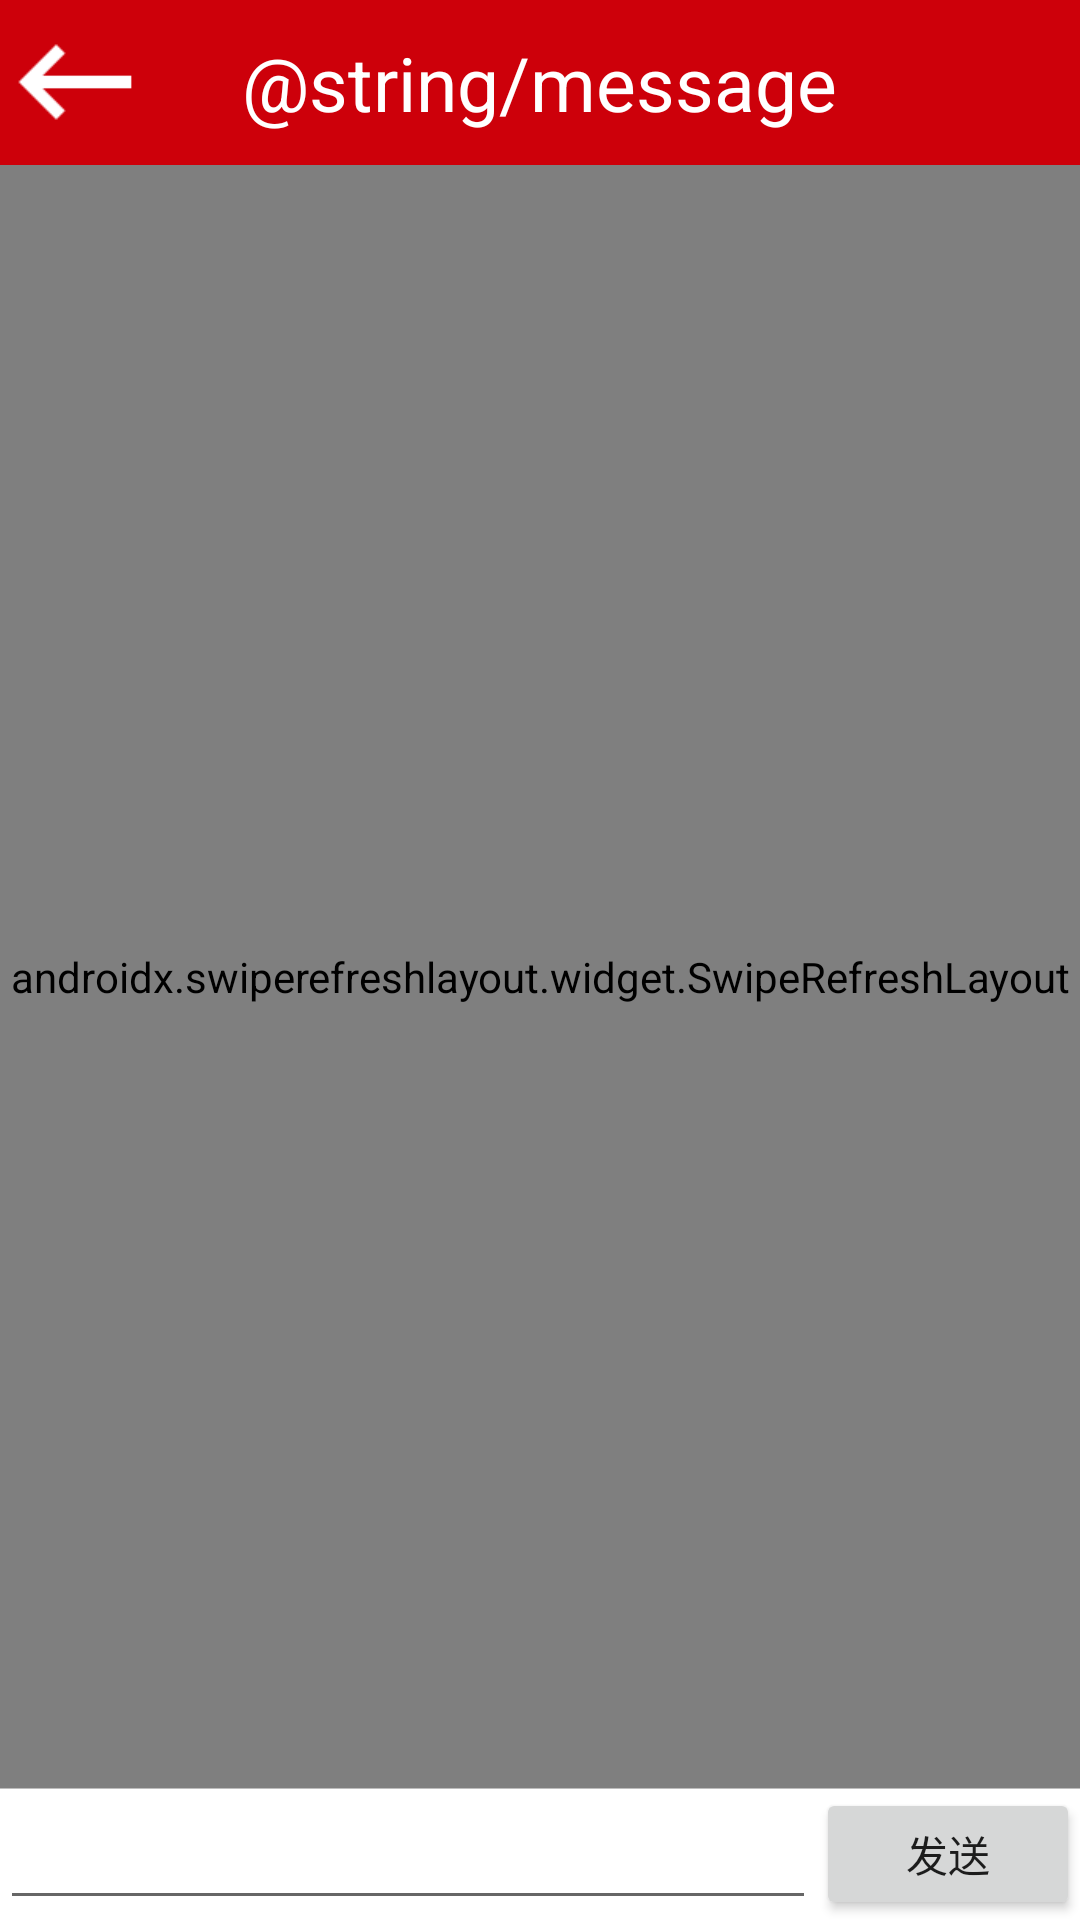

Screen size 1080*1920. Icon name, then its box in pixels as (x1, y1, x2, y2):
keyboard backspace: (18, 44, 132, 120)
